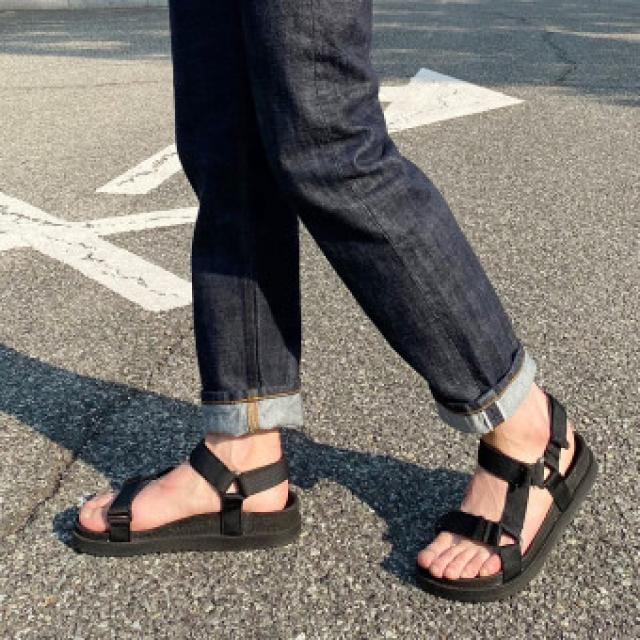no-boots: (410, 433, 620, 608), (42, 450, 310, 580)
